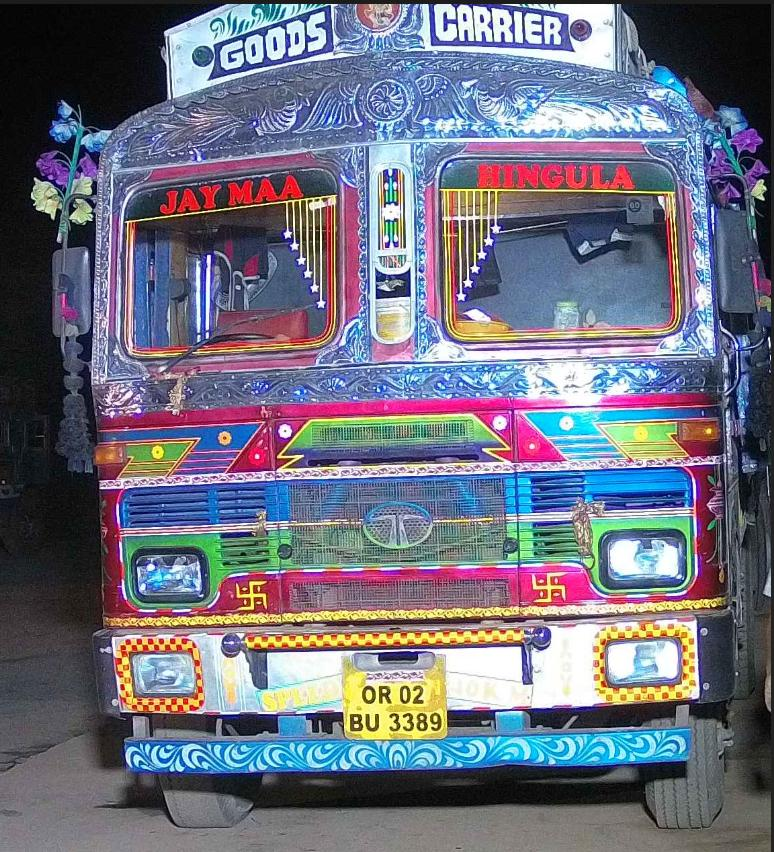doublelinenumberplate: (347, 669, 448, 743)
